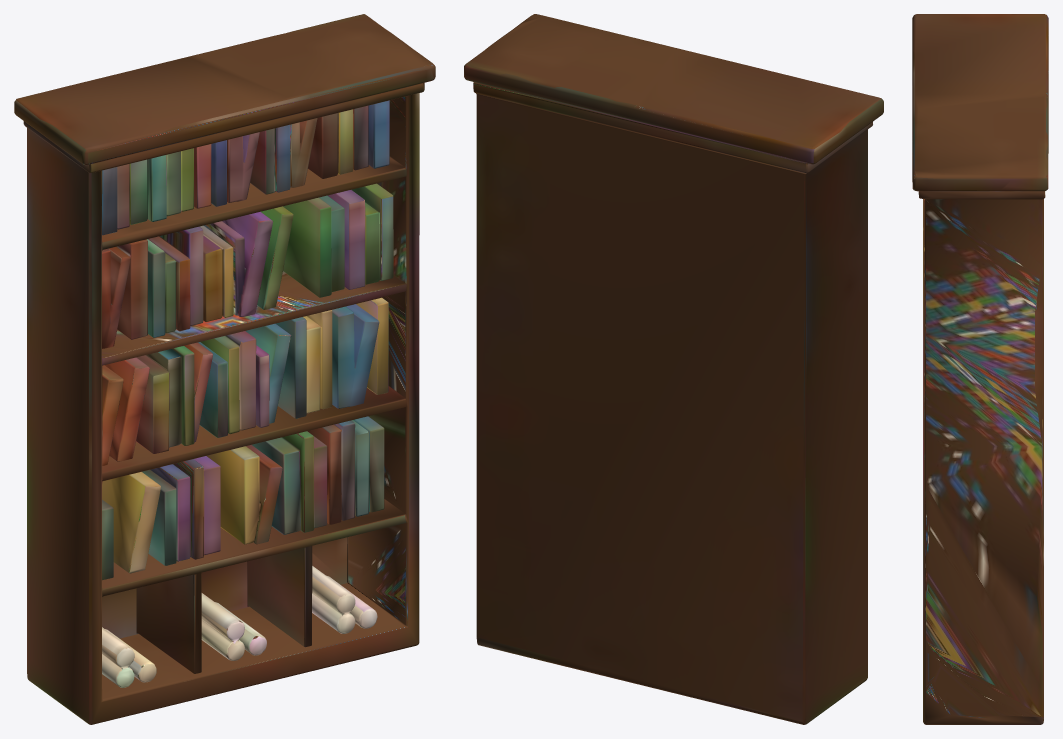
File: bookcase.glb
3 views of the same model, side by side, from view 1: azimuth 30°, elevation 25°; view 2: azimuth 150°, elevation 25°; view 3: azimuth 270°, elevation 25° (orthographic). The views are drawn at different scales.
Parts seen in each view (by area): view 1: case; view 2: case; view 3: case.
Part boxes in pixels (x1=…): case: x1=14, y1=14, x2=435, y2=724; case: x1=464, y1=14, x2=883, y2=724; case: x1=912, y1=14, x2=1048, y2=724.
Bounding box in the file's own units: 1.28 × 2.02 × 0.4498.
Materials: 1 (1 with a texture image).
